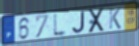6: (18, 16, 31, 40)
7: (35, 13, 50, 39)
J: (72, 11, 86, 35)
K: (108, 7, 122, 30)
L: (53, 11, 69, 39)
X: (87, 7, 106, 35)
